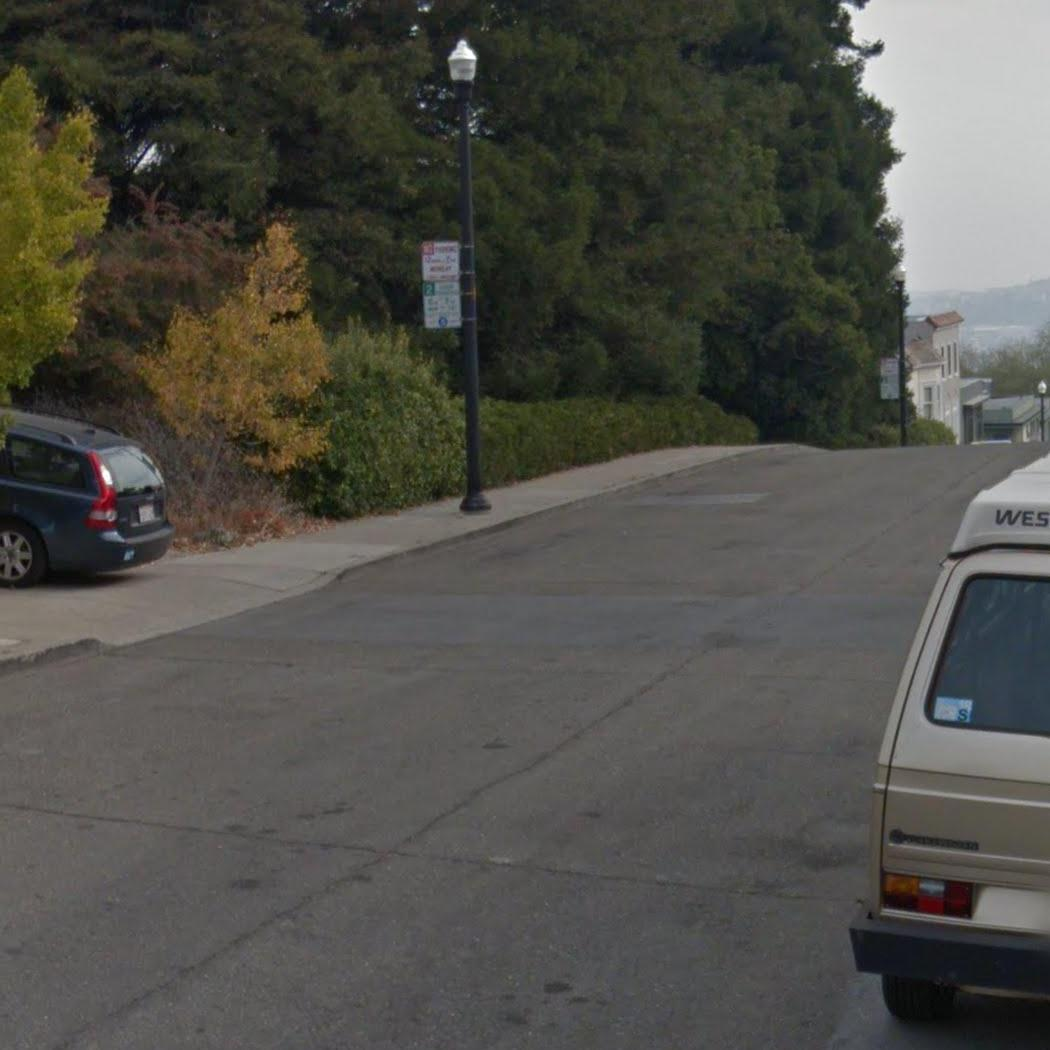2 Hour Parking: (418, 281, 467, 331)
No Parking: (418, 239, 466, 284)
